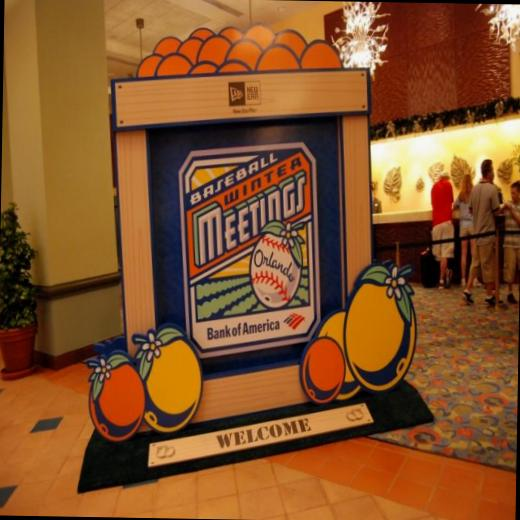Grape: (346, 272, 421, 386), (144, 330, 204, 430), (87, 354, 146, 444), (298, 332, 347, 399), (321, 313, 364, 389)
